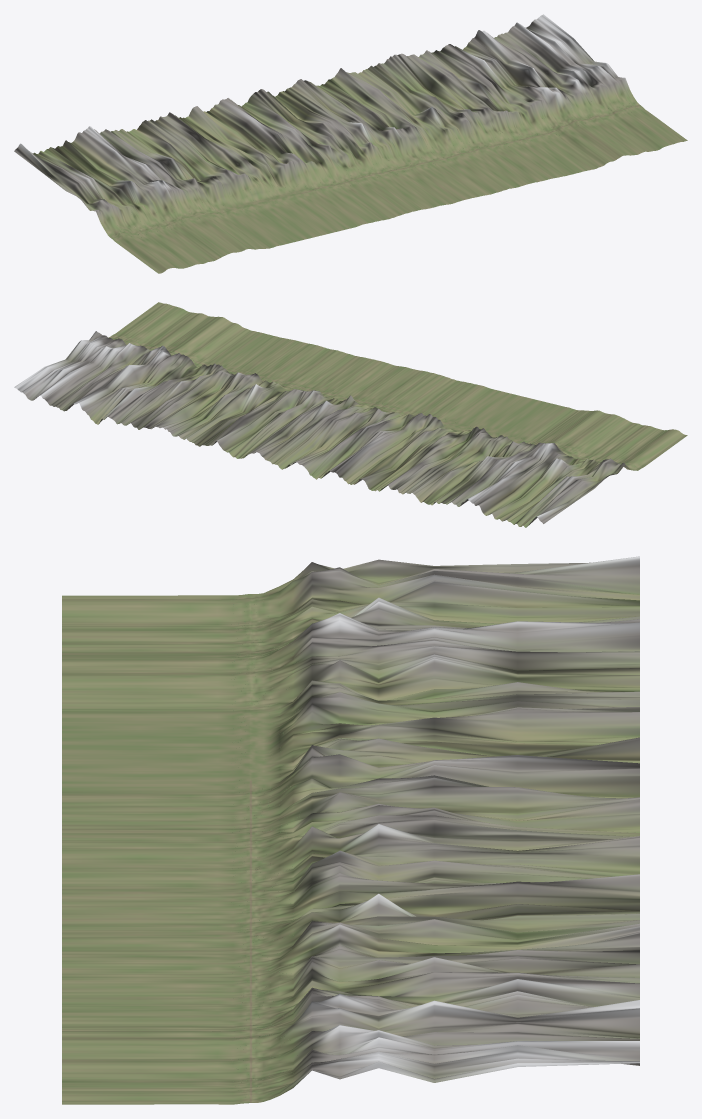
Rendered from terrain.glb.
3 views of the same model, one above another, from view 1: azimuth 30°, elevation 25°; view 2: azimuth 150°, elevation 25°; view 3: azimuth 270°, elevation 25° (orthographic). The views are drawn at different scales.
Visible parts, largest first — view 1: Ground; view 2: Ground; view 3: Ground.
Boxes of the visible parts, <box> form: Ground: <box>14,14,687,273</box>; Ground: <box>14,302,687,527</box>; Ground: <box>62,556,639,1104</box>.
Bounding box in the file's own units: 22000 × 1079 × 10400.
